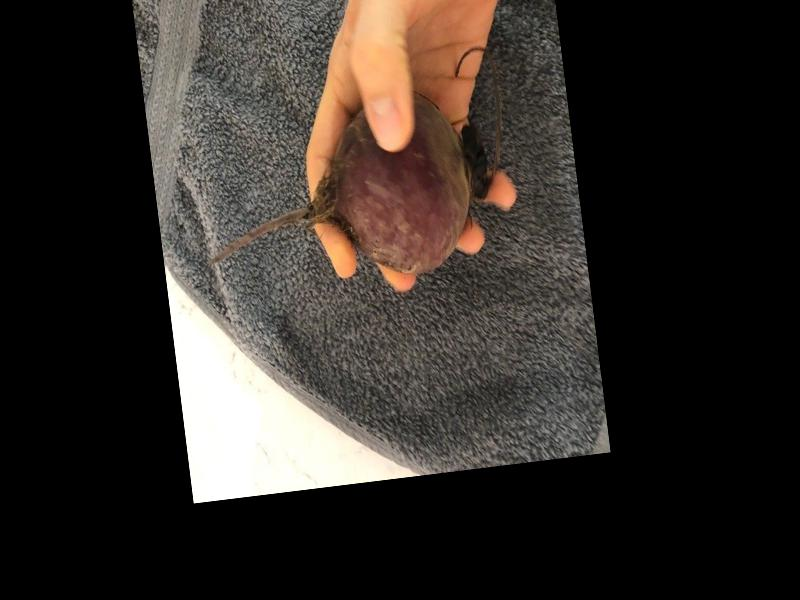Beet: (188, 83, 498, 299)
